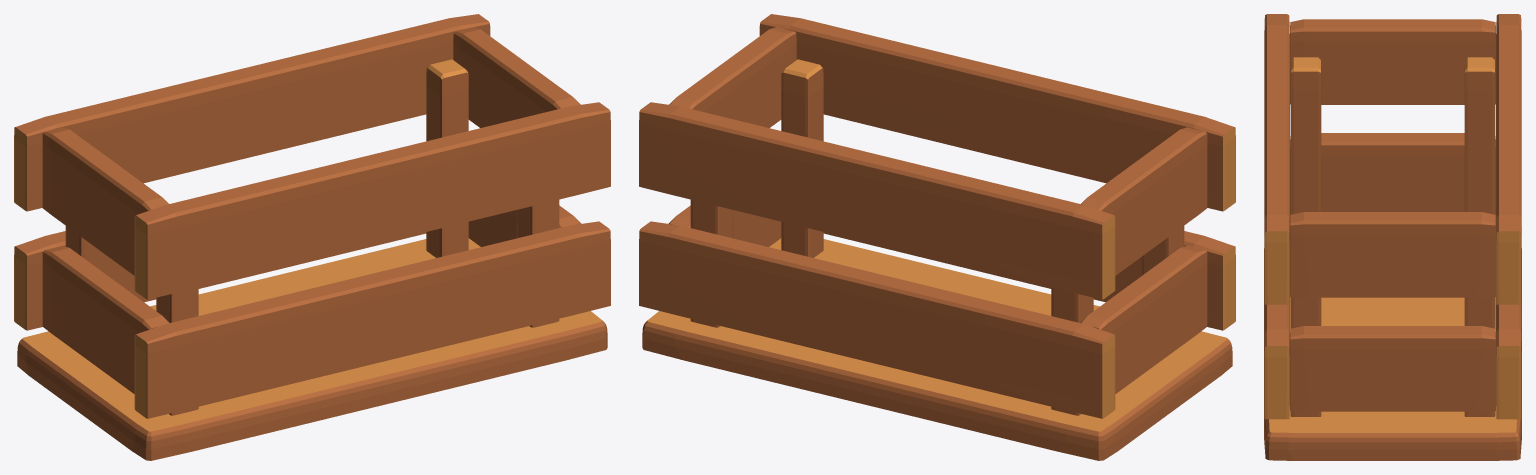
File: 3D_vegetable_box.fbx
3 views of the same model, side by side, from view 1: azimuth 30°, elevation 25°; view 2: azimuth 150°, elevation 25°; view 3: azimuth 270°, elevation 25° (orthographic). The views are drawn at different scales.
Parts seen in each view (by area): view 1: 3d_VegetableBox; view 2: 3d_VegetableBox; view 3: 3d_VegetableBox.
Part boxes in pixels (bbox=[...]): 3d_VegetableBox: bbox=[14, 14, 610, 460]; 3d_VegetableBox: bbox=[639, 14, 1235, 460]; 3d_VegetableBox: bbox=[1264, 14, 1521, 460].
Size of the model in its own units: 0.7499 by 0.3728 by 0.375.
